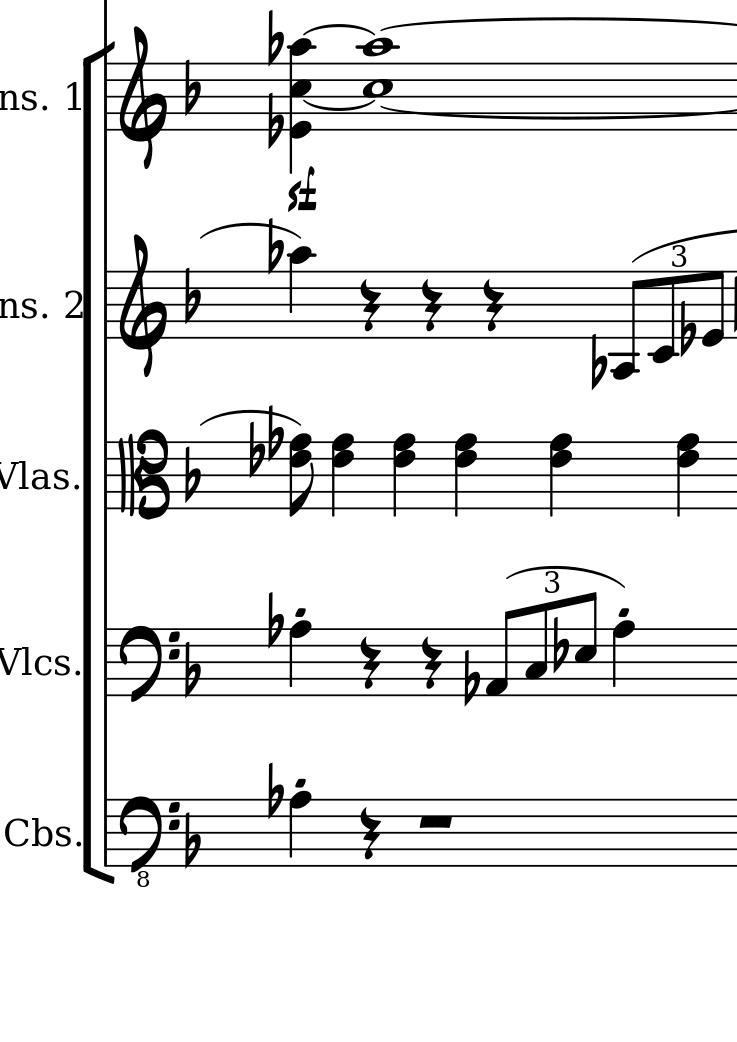1_5_10: (354, 36, 403, 133)
3: (670, 244, 688, 269), (543, 570, 560, 595)
4_10: (285, 245, 316, 339)
4_6_8: (330, 433, 354, 517), (392, 433, 416, 517), (453, 431, 477, 515), (548, 432, 572, 516), (676, 432, 700, 516)
4_8: (287, 620, 313, 699), (287, 790, 313, 869), (611, 620, 635, 700)
8_-2: (649, 269, 675, 365)
8_-4: (609, 268, 642, 381)
8_0: (701, 269, 725, 349)
8_1: (484, 608, 518, 698)
8_3: (523, 607, 547, 697)
8_5: (573, 590, 599, 699)
8_6_8: (287, 433, 315, 517)
Bracke: (81, 41, 117, 884)
Cb: (6, 813, 54, 850)
Cclef: (117, 430, 169, 520)
Fclef: (119, 623, 178, 707)
Flat: (182, 443, 203, 505), (183, 810, 204, 871), (183, 640, 204, 700), (182, 265, 202, 326), (182, 60, 203, 115), (589, 332, 607, 394), (266, 588, 283, 653), (678, 298, 696, 359), (462, 648, 480, 709), (266, 759, 283, 823), (551, 615, 569, 674), (266, 8, 284, 66), (266, 90, 283, 151), (267, 217, 283, 278)
Gclef: (117, 27, 167, 170), (119, 234, 169, 377)
Lower_Fclef: (117, 794, 180, 889)
Rests1: (416, 812, 457, 831)
Rests4: (357, 277, 382, 334), (419, 278, 444, 335), (357, 805, 382, 862), (480, 277, 504, 335), (419, 634, 443, 692), (358, 635, 381, 692)
Single_barline: (97, 631, 115, 695), (98, 800, 115, 867), (100, 64, 116, 131), (98, 444, 114, 509), (99, 273, 114, 337)
Slur: (506, 566, 627, 590), (200, 223, 304, 241), (198, 409, 302, 427), (303, 23, 375, 36), (302, 99, 374, 110)
Vla: (1, 457, 52, 496)
Vlc: (1, 642, 54, 682)
sf: (288, 163, 318, 213)
